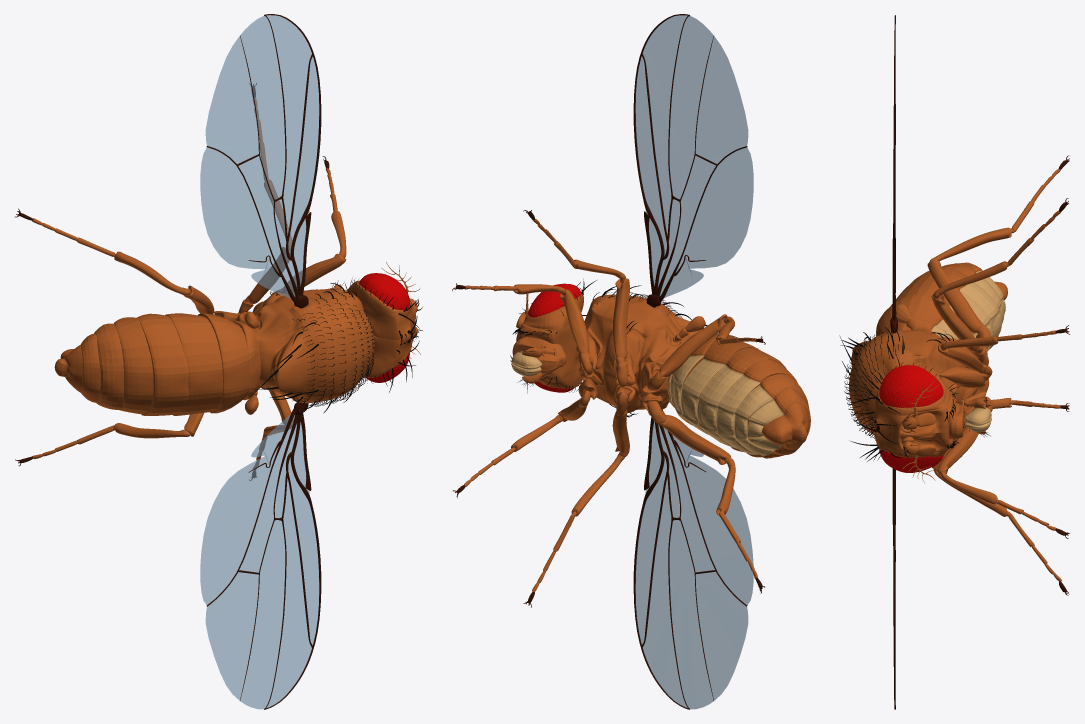
The model's file is fly.glb.
3 renders of one model, left to right at view 1: azimuth 30°, elevation 25°; view 2: azimuth 150°, elevation 25°; view 3: azimuth 270°, elevation 25°, orthographic.
Parts seen in each view (by area): view 1: wing_left_membrane_geom, wing_right_membrane_geom, thorax_geom, abdomen_3_geom, wing_right_brown_geom, abdomen_4_geom, wing_left_brown_geom, head_geom, abdomen_5_geom, abdomen_2_geom, abdomen_6_geom, thorax_black_geom (+8 smaller); view 2: wing_left_membrane_geom, wing_right_membrane_geom, thorax_geom, wing_left_brown_geom, wing_right_brown_geom, head_geom, abdomen_4_lower_geom, abdomen_5_lower_geom, abdomen_8_geom, femur_T3_right_geom, femur_T2_left_geom, femur_T3_left_geom (+14 smaller); view 3: thorax_geom, head_geom, head_red_geom, femur_T3_left_geom, thorax_black_geom, abdomen_2_geom, wing_left_brown_geom, femur_T2_left_geom, abdomen_4_lower_geom, femur_T1_right_geom, tibia_T3_left_geom, head_black_geom (+14 smaller).
Part boxes in pixels (<box>): wing_left_membrane_geom: <box>200,15,319,298</box>; wing_right_membrane_geom: <box>200,414,319,709</box>; thorax_geom: <box>237,287,374,403</box>; abdomen_3_geom: <box>165,313,222,415</box>; wing_right_brown_geom: <box>206,402,321,709</box>; abdomen_4_geom: <box>137,313,188,415</box>; wing_left_brown_geom: <box>206,14,321,308</box>; head_geom: <box>347,280,415,377</box>; abdomen_5_geom: <box>113,317,153,414</box>; abdomen_2_geom: <box>198,313,248,413</box>; abdomen_6_geom: <box>94,323,123,409</box>; thorax_black_geom: <box>251,283,374,413</box>; wing_left_membrane_geom: <box>635,15,753,297</box>; wing_right_membrane_geom: <box>635,421,753,709</box>; thorax_geom: <box>576,294,702,412</box>; wing_left_brown_geom: <box>633,14,747,307</box>; wing_right_brown_geom: <box>633,409,747,709</box>; head_geom: <box>516,294,583,388</box>; abdomen_4_lower_geom: <box>697,365,743,448</box>; abdomen_5_lower_geom: <box>716,374,760,455</box>; abdomen_8_geom: <box>762,403,809,449</box>; femur_T3_right_geom: <box>647,401,731,464</box>; femur_T2_left_geom: <box>613,278,629,387</box>; femur_T3_left_geom: <box>647,314,727,390</box>; thorax_geom: <box>849,327,973,435</box>; head_geom: <box>873,374,953,457</box>; head_red_geom: <box>879,365,943,472</box>; femur_T3_left_geom: <box>927,259,990,348</box>; thorax_black_geom: <box>839,327,953,440</box>; abdomen_2_geom: <box>876,294,948,336</box>; wing_left_brown_geom: <box>890,15,897,333</box>; femur_T2_left_geom: <box>931,294,988,365</box>; abdomen_4_lower_geom: <box>959,282,1001,349</box>; femur_T1_right_geom: <box>937,396,993,474</box>; tibia_T3_left_geom: <box>930,227,1012,261</box>; head_black_geom: <box>848,362,959,461</box>.
Size of the model in its own units: 0.3012 by 0.6116 by 0.1856.
